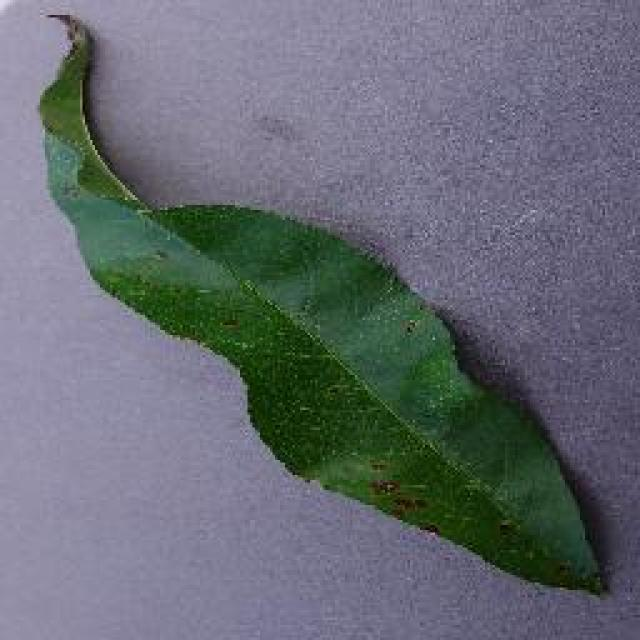Bacterial_spot: (352, 451, 413, 503)
